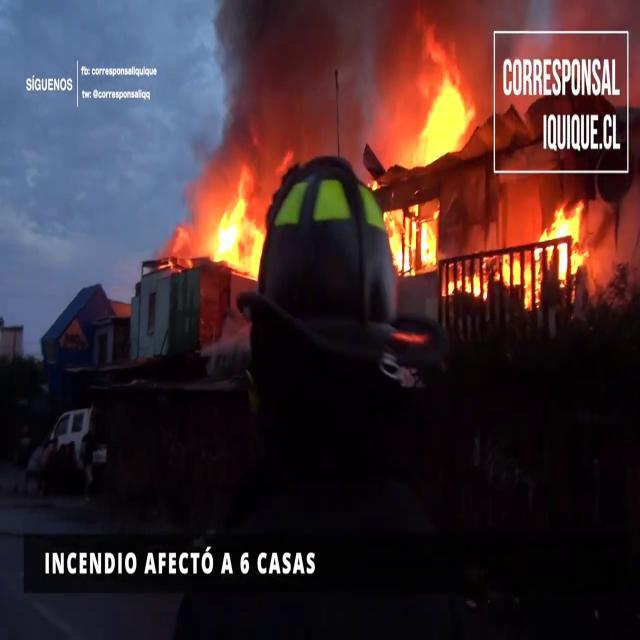Fire: (386, 46, 479, 168), (198, 175, 268, 282), (537, 195, 589, 288), (384, 198, 442, 278)
Smoke: (194, 0, 406, 165)
